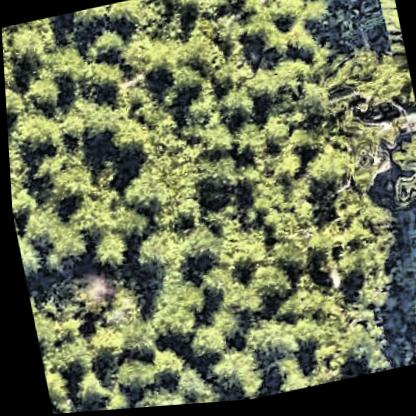tree-top: (335, 42, 412, 125), (135, 278, 203, 351), (185, 326, 247, 401), (35, 150, 98, 213), (206, 220, 271, 281), (195, 345, 256, 406), (234, 312, 296, 372), (5, 102, 63, 164), (114, 164, 171, 225), (123, 225, 181, 283), (34, 218, 92, 276), (295, 142, 354, 199), (61, 267, 115, 324), (106, 310, 160, 367), (1, 18, 55, 72), (36, 331, 89, 384), (100, 114, 152, 168), (190, 156, 243, 208), (132, 38, 184, 90), (239, 260, 290, 312), (79, 225, 130, 276), (170, 216, 216, 272), (101, 350, 150, 402), (260, 232, 310, 281), (177, 319, 227, 367), (76, 319, 122, 370), (76, 56, 123, 104), (19, 67, 65, 116), (324, 251, 377, 293), (42, 38, 87, 87), (48, 97, 93, 145), (255, 355, 304, 399), (60, 367, 106, 413), (188, 118, 233, 165), (235, 65, 280, 111), (81, 25, 128, 69), (210, 85, 255, 129), (382, 139, 416, 194), (204, 11, 247, 54), (96, 0, 150, 34), (330, 333, 374, 371), (163, 64, 203, 104), (263, 149, 304, 188), (126, 378, 175, 410), (264, 0, 309, 34), (281, 318, 317, 357), (243, 22, 282, 58), (12, 227, 38, 277), (282, 27, 317, 63), (38, 364, 66, 406), (4, 81, 28, 123), (173, 0, 210, 26)
